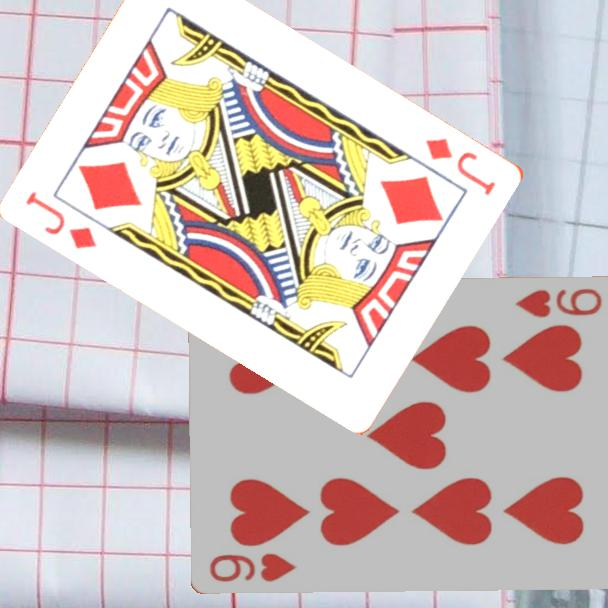d11: (22, 187, 101, 252), (422, 134, 500, 199)
h09: (512, 284, 605, 320), (206, 549, 299, 584)
